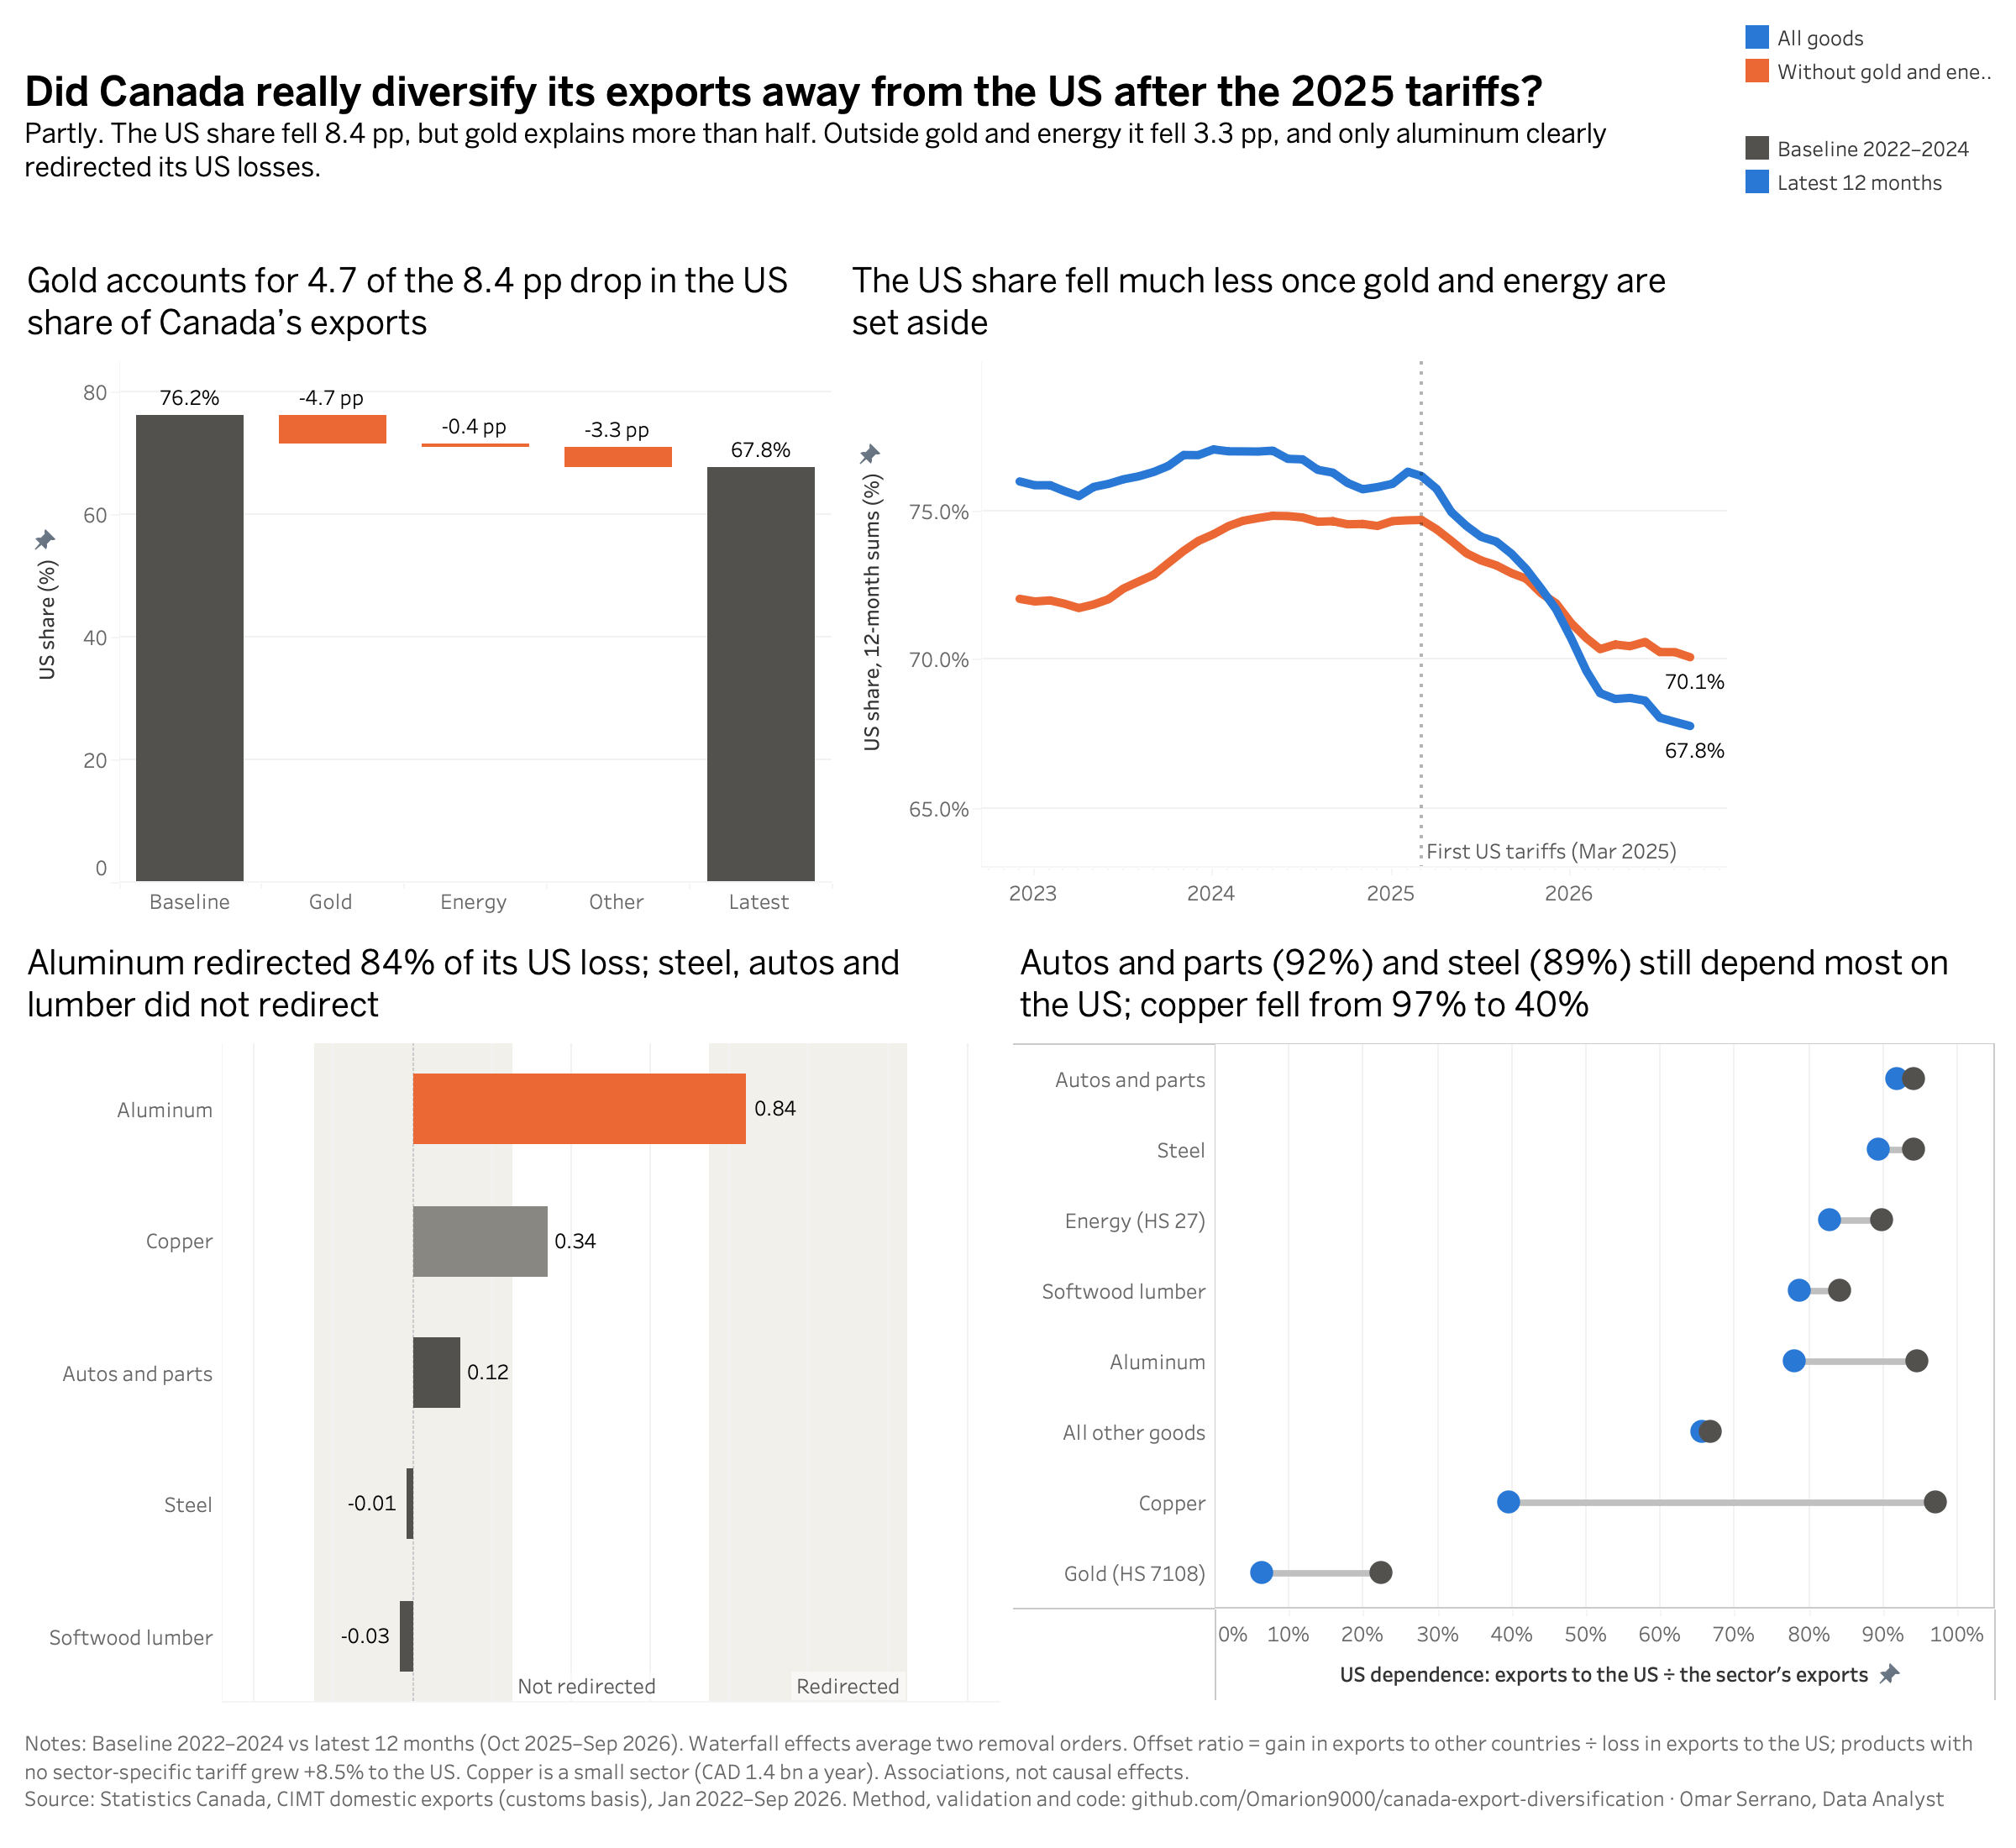

Layout of this report page (visuals, bound fields, positions):
{"tool":"tableau","page":{"name":"Dashboard 1","canvas":[1200,1100],"ordinal":0},"visuals":[{"type":"text","box":[8,8,1024,136.1]},{"type":"legend","title":"US share","param":"[federated.1l8uwtw09xxetc16wgawx07von9a].[none:variant:nk]","box":[1032,8,160,48]},{"type":"legend","title":"Exposure","param":"[federated.10tj5r4114s4ze15slgbk1yy4h5a].[:Measure Names]","box":[1032,56,160,48]},{"type":"worksheet","title":"Waterfall","mark":"GanttBar","rows":["bar_start"],"cols":["label"],"box":[8,144.1,491,405.9]},{"type":"worksheet","title":"US share","mark":"Automatic","rows":["us_share_12m"],"cols":["month"],"box":[499,144.1,533,405.9]},{"type":"worksheet","title":"Redirection","mark":"Automatic","rows":["sector_group"],"cols":["offset_ratio"],"box":[8,550,591,467]},{"type":"worksheet","title":"Exposure","mark":"Circle","rows":["sector_group"],"box":[599,550,593,467]},{"type":"text","box":[8,1017,1184,75]}]}

Visuals, with their boxes in screenshot pixels (x1, y1, x2, y2), scaled from the page's 1200x1100 canvas onto the 2016x1848 screenshot:
text: (left=13, top=13, right=1734, bottom=242)
"US share" legend: (left=1734, top=13, right=2003, bottom=94)
"Exposure" legend: (left=1734, top=94, right=2003, bottom=175)
"Waterfall" worksheet (GanttBar marks): (left=13, top=242, right=838, bottom=924)
"US share" worksheet: (left=838, top=242, right=1734, bottom=924)
"Redirection" worksheet: (left=13, top=924, right=1006, bottom=1709)
"Exposure" worksheet (Circle marks): (left=1006, top=924, right=2003, bottom=1709)
text: (left=13, top=1709, right=2003, bottom=1835)
